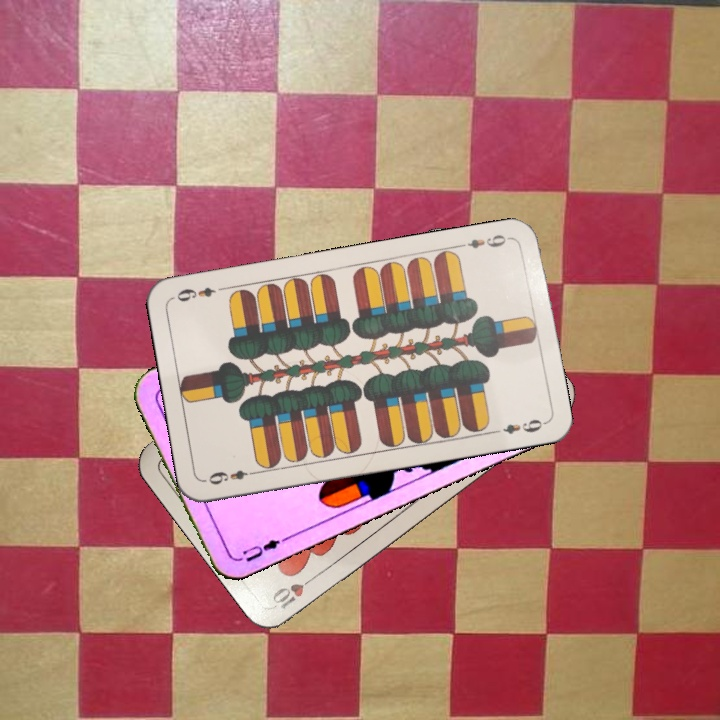E9: (456, 230, 515, 251), (204, 466, 261, 487)
EU: (238, 533, 290, 565)
H10: (268, 569, 321, 612)
